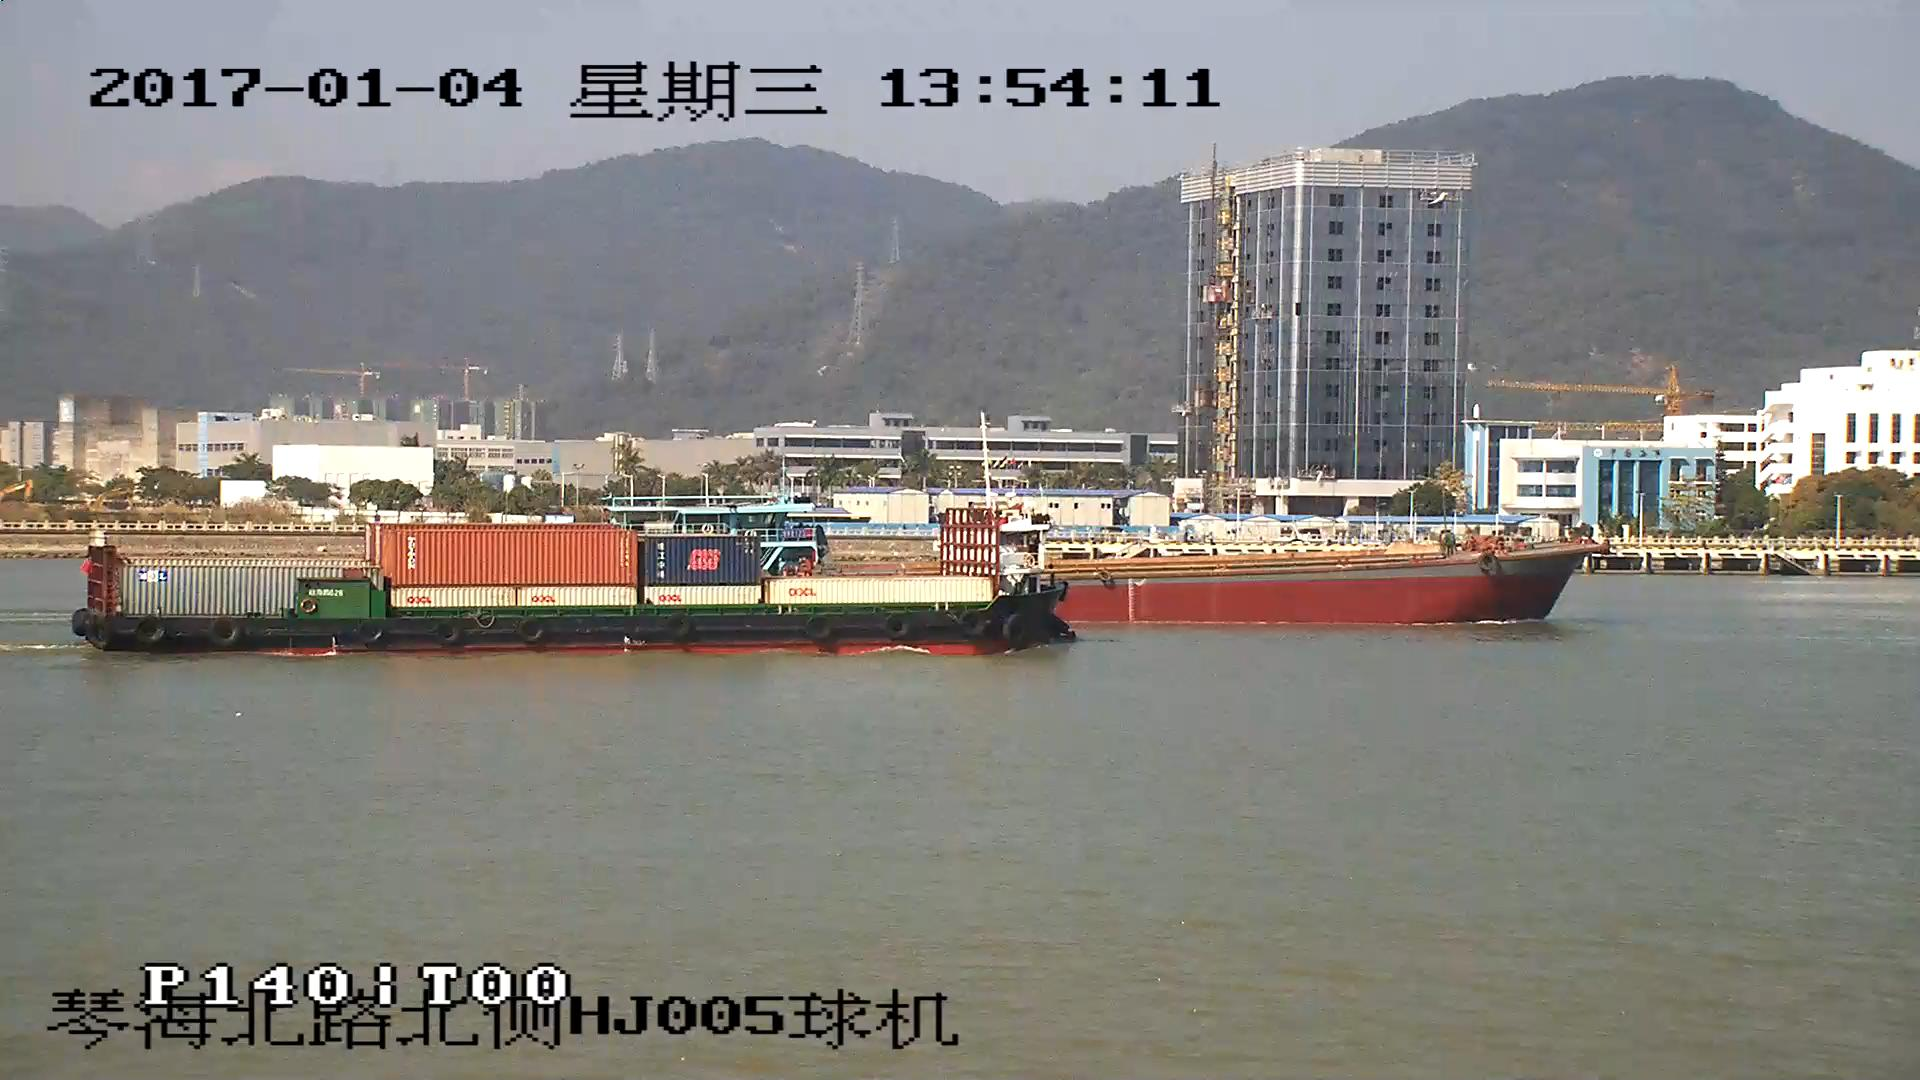bulk cargo carrier: (1073, 540, 1600, 624)
container ship: (74, 505, 1075, 655)
